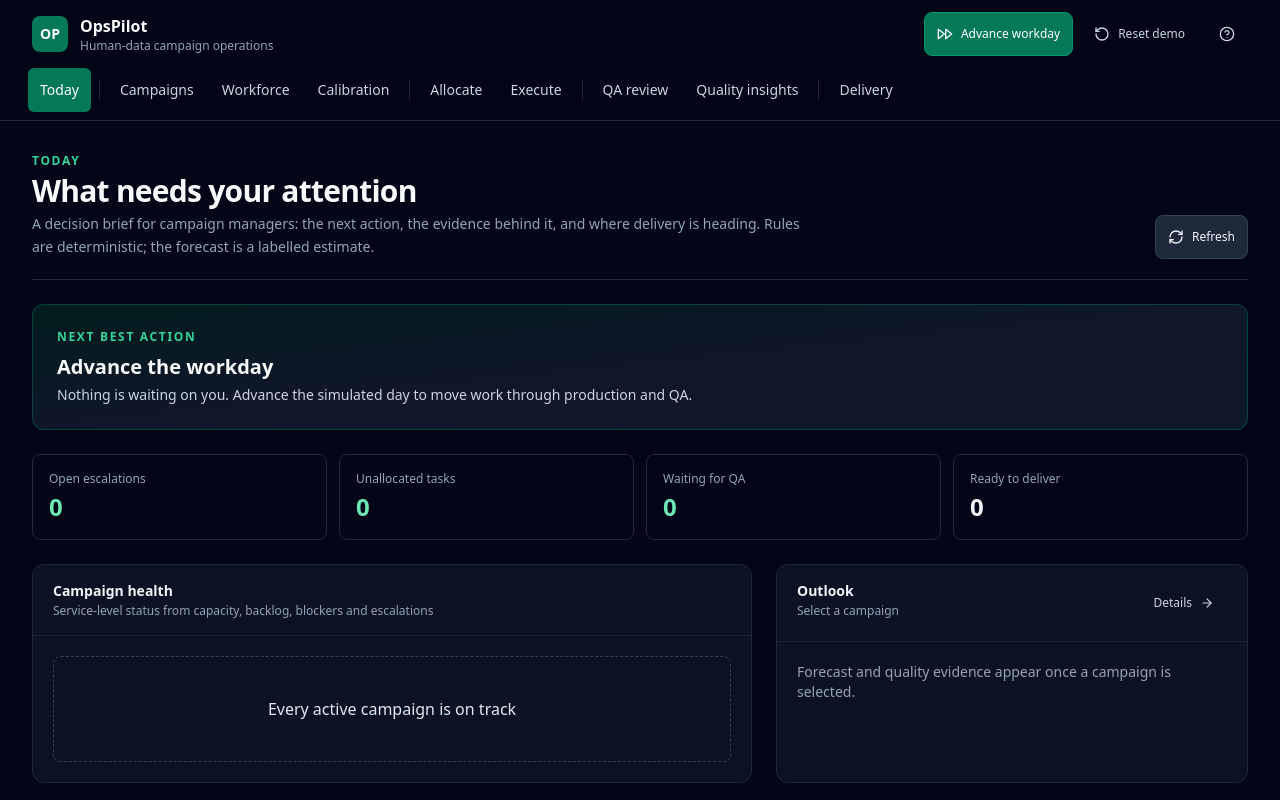
Test: App Component › refreshes the active page immediately after resetting the demo
Click the button "Reset demo" at coordinates (1140, 34), box [1081,12,1198,56]
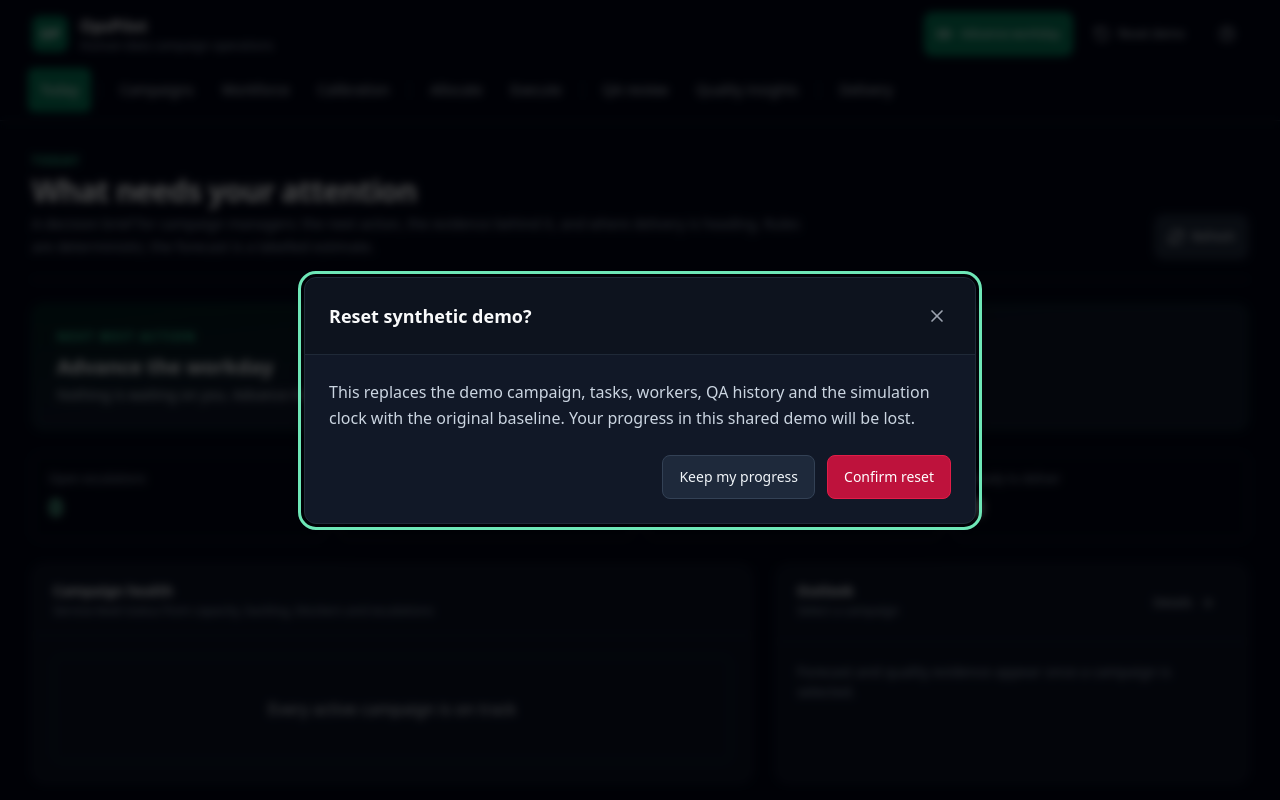
Expected: the dialog "Reset synthetic demo?" is shown, [304,276,976,524]
Click the button "Confirm reset" at coordinates (889, 476), box [827,454,951,498]
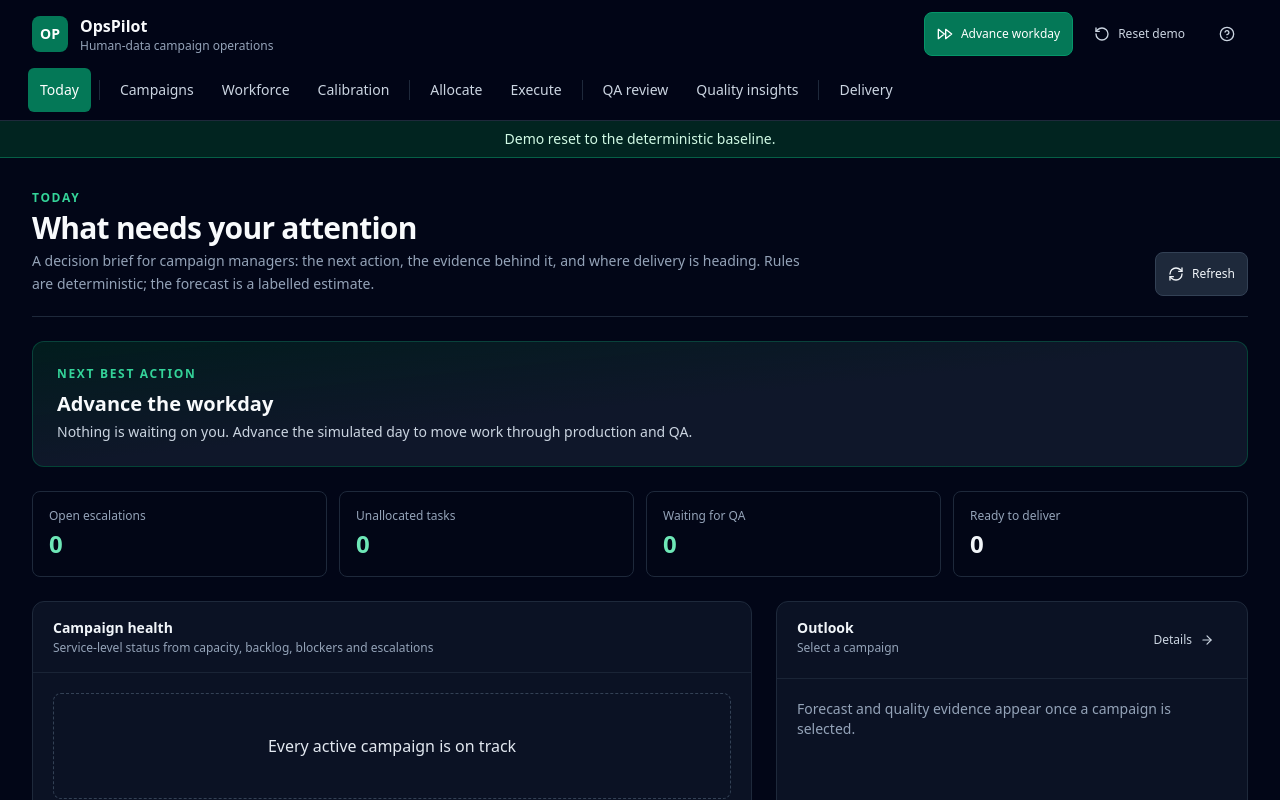
Expected: the text "Demo reset to the deterministic baseline." is shown, [0,121,1279,158]
